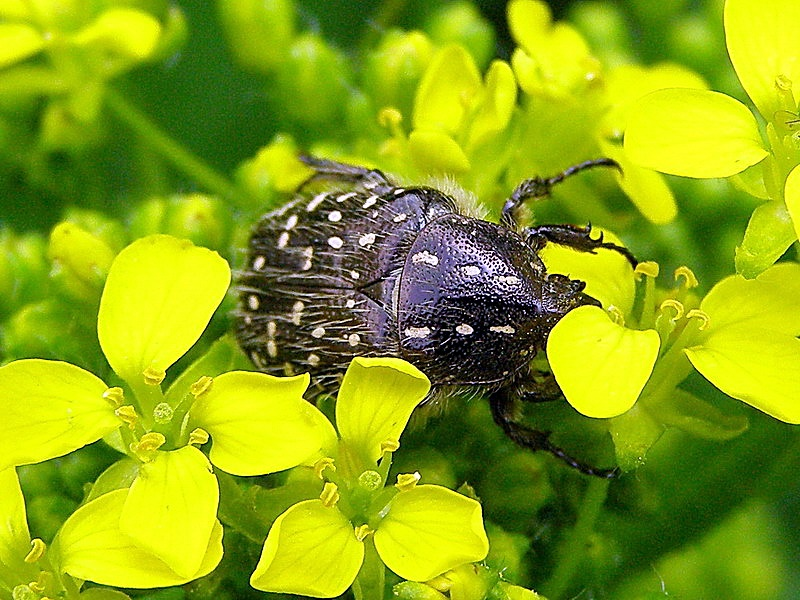Oxythyrea_funesta: (225, 135, 642, 493)
